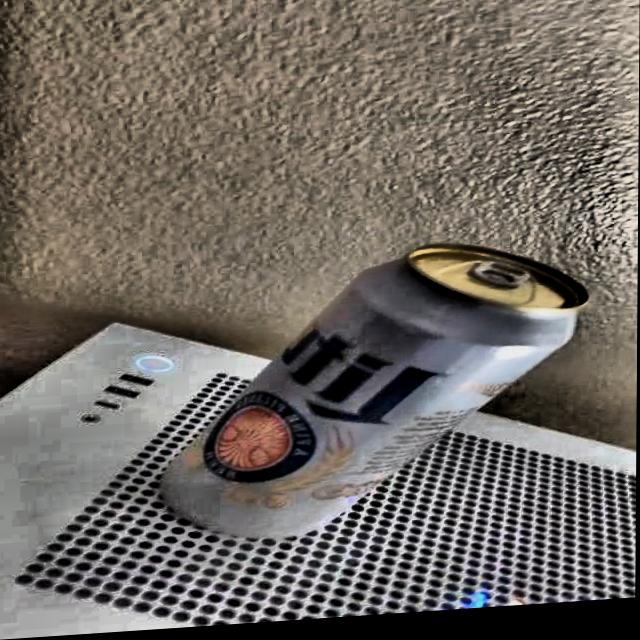can: (146, 236, 589, 566)
